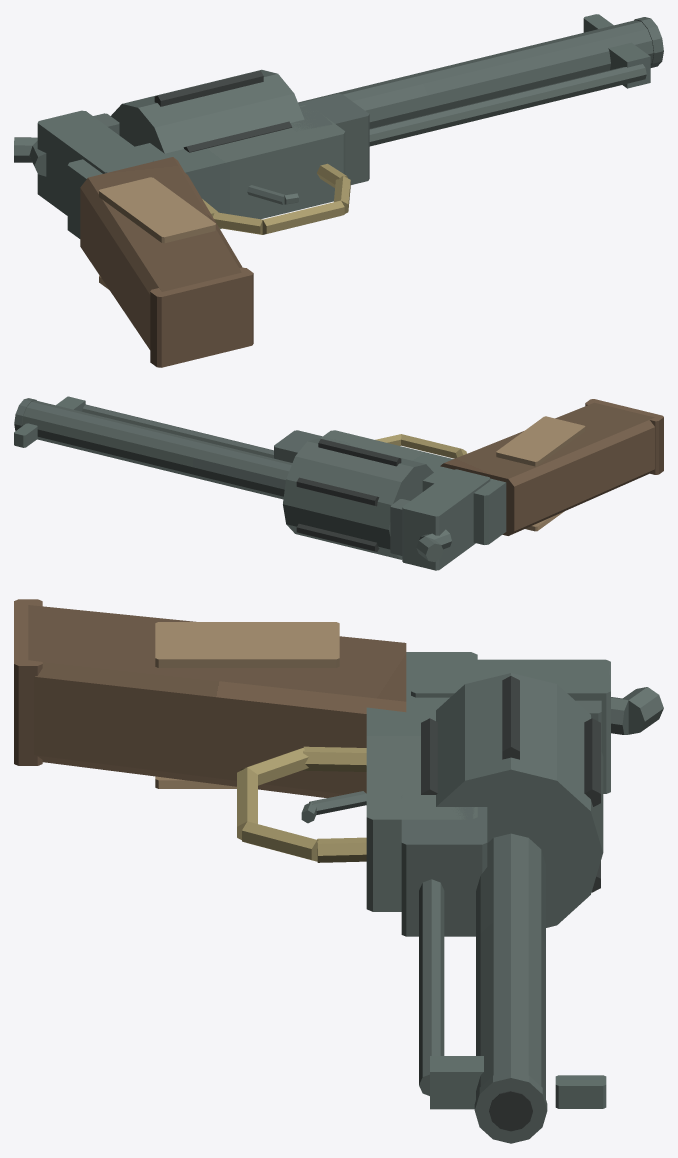
File: weapon-colt-1860.glb
3 renders of one model, top to bottom at view 1: azimuth 30°, elevation 25°; view 2: azimuth 150°, elevation 25°; view 3: azimuth 270°, elevation 25°, orthographic. The views are drawn at different scales.
Visible parts, largest first — view 1: weapon-colt-1860/eight-sided-wood-grip, weapon-colt-1860/lower-frame, weapon-colt-1860/barrel, weapon-colt-1860/fluted-cylinder, weapon-colt-1860/eight-sided-wood-grip-heel, weapon-colt-1860/frame-rear, weapon-colt-1860/under-barrel-rod, weapon-colt-1860/grip-plaque-left, weapon-colt-1860/open-frame-barrel-lug, weapon-colt-1860/cylinder-long-flute-3, weapon-colt-1860/hollow-trigger-guard-4, weapon-colt-1860/rod-front-lug (+3 smaller); view 2: weapon-colt-1860/eight-sided-wood-grip, weapon-colt-1860/barrel, weapon-colt-1860/fluted-cylinder, weapon-colt-1860/frame-rear, weapon-colt-1860/lower-frame, weapon-colt-1860/grip-plaque-left, weapon-colt-1860/under-barrel-rod, weapon-colt-1860/eight-sided-wood-grip-heel, weapon-colt-1860/cylinder-long-flute-2, weapon-colt-1860/open-frame-barrel-lug, weapon-colt-1860/cylinder-long-flute-1, weapon-colt-1860/cylinder-long-flute-3 (+7 smaller); view 3: weapon-colt-1860/eight-sided-wood-grip, weapon-colt-1860/fluted-cylinder, weapon-colt-1860/barrel, weapon-colt-1860/lower-frame, weapon-colt-1860/open-frame-barrel-lug, weapon-colt-1860/grip-plaque-left, weapon-colt-1860/frame-rear, weapon-colt-1860/under-barrel-rod, weapon-colt-1860/eight-sided-wood-grip-heel, weapon-colt-1860/barrel-end-rim, weapon-colt-1860/rod-front-lug, weapon-colt-1860/front-sight (+11 smaller).
Boxes of the visible parts, <box> form: weapon-colt-1860/eight-sided-wood-grip: <box>80,157,242,349</box>; weapon-colt-1860/lower-frame: <box>67,105,345,238</box>; weapon-colt-1860/barrel: <box>298,20,653,128</box>; weapon-colt-1860/fluted-cylinder: <box>111,69,304,153</box>; weapon-colt-1860/eight-sided-wood-grip-heel: <box>150,267,253,367</box>; weapon-colt-1860/frame-rear: <box>37,110,153,215</box>; weapon-colt-1860/under-barrel-rod: <box>369,64,646,146</box>; weapon-colt-1860/grip-plaque-left: <box>99,177,215,243</box>; weapon-colt-1860/open-frame-barrel-lug: <box>290,93,369,184</box>; weapon-colt-1860/cylinder-long-flute-3: <box>154,70,263,106</box>; weapon-colt-1860/hollow-trigger-guard-4: <box>262,200,344,234</box>; weapon-colt-1860/rod-front-lug: <box>608,42,650,88</box>; weapon-colt-1860/eight-sided-wood-grip: <box>440,402,654,535</box>; weapon-colt-1860/barrel: <box>22,400,292,499</box>; weapon-colt-1860/fluted-cylinder: <box>283,438,433,559</box>; weapon-colt-1860/frame-rear: <box>402,469,490,570</box>; weapon-colt-1860/lower-frame: <box>321,430,506,544</box>; weapon-colt-1860/grip-plaque-left: <box>496,416,585,466</box>; weapon-colt-1860/under-barrel-rod: <box>82,404,273,458</box>; weapon-colt-1860/eight-sided-wood-grip-heel: <box>585,399,663,474</box>; weapon-colt-1860/cylinder-long-flute-2: <box>296,477,379,506</box>; weapon-colt-1860/open-frame-barrel-lug: <box>274,430,349,462</box>; weapon-colt-1860/cylinder-long-flute-1: <box>296,523,379,551</box>; weapon-colt-1860/cylinder-long-flute-3: <box>318,439,401,466</box>; weapon-colt-1860/eight-sided-wood-grip: <box>28,605,406,797</box>; weapon-colt-1860/fluted-cylinder: <box>436,673,603,927</box>; weapon-colt-1860/barrel: <box>476,833,545,1098</box>; weapon-colt-1860/lower-frame: <box>366,652,477,911</box>; weapon-colt-1860/open-frame-barrel-lug: <box>401,796,487,936</box>; weapon-colt-1860/grip-plaque-left: <box>155,622,339,667</box>; weapon-colt-1860/frame-rear: <box>411,659,610,793</box>; weapon-colt-1860/under-barrel-rod: <box>419,879,444,1095</box>; weapon-colt-1860/eight-sided-wood-grip-heel: <box>14,599,42,765</box>; weapon-colt-1860/barrel-end-rim: <box>474,1071,547,1143</box>; weapon-colt-1860/rod-front-lug: <box>430,1056,483,1109</box>; weapon-colt-1860/front-sight: <box>555,1075,606,1108</box>.
Bounding box in the file's own units: 0.3444 × 0.0654 × 0.2046.
5 materials, 5 textured.
